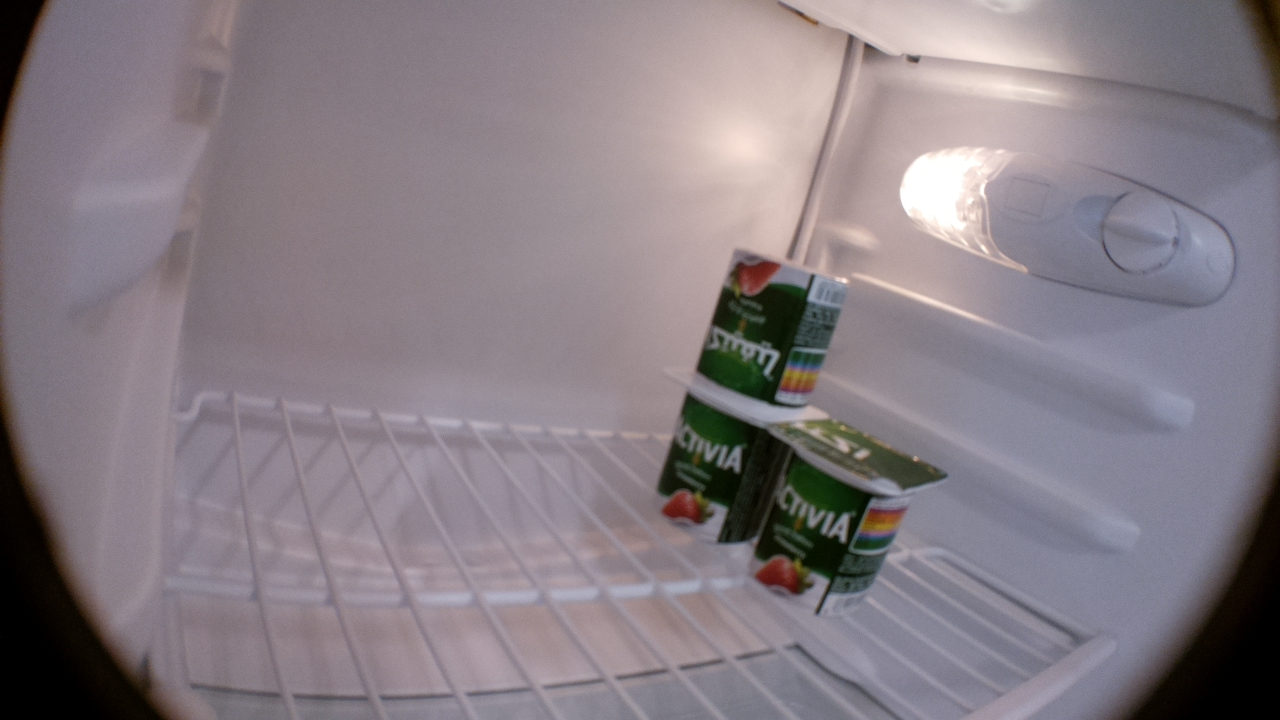yoghurt: (747, 422, 951, 619), (661, 245, 854, 421), (644, 386, 790, 547)
